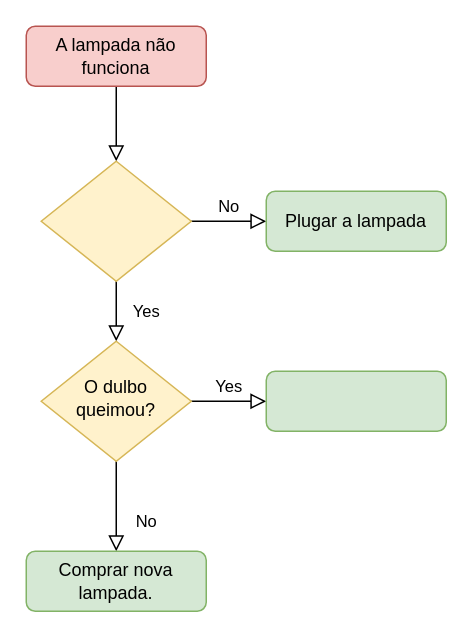
The diagram is 473 pixels wide and 638 high, and some of its shapes have lost their labels. The shapes that lost their labels are listed below. From the top down, each one's centre as x and y in pixels, then its label:
point (115, 220): A lampada estava apagada?
point (355, 400): Trocar o dulbo
